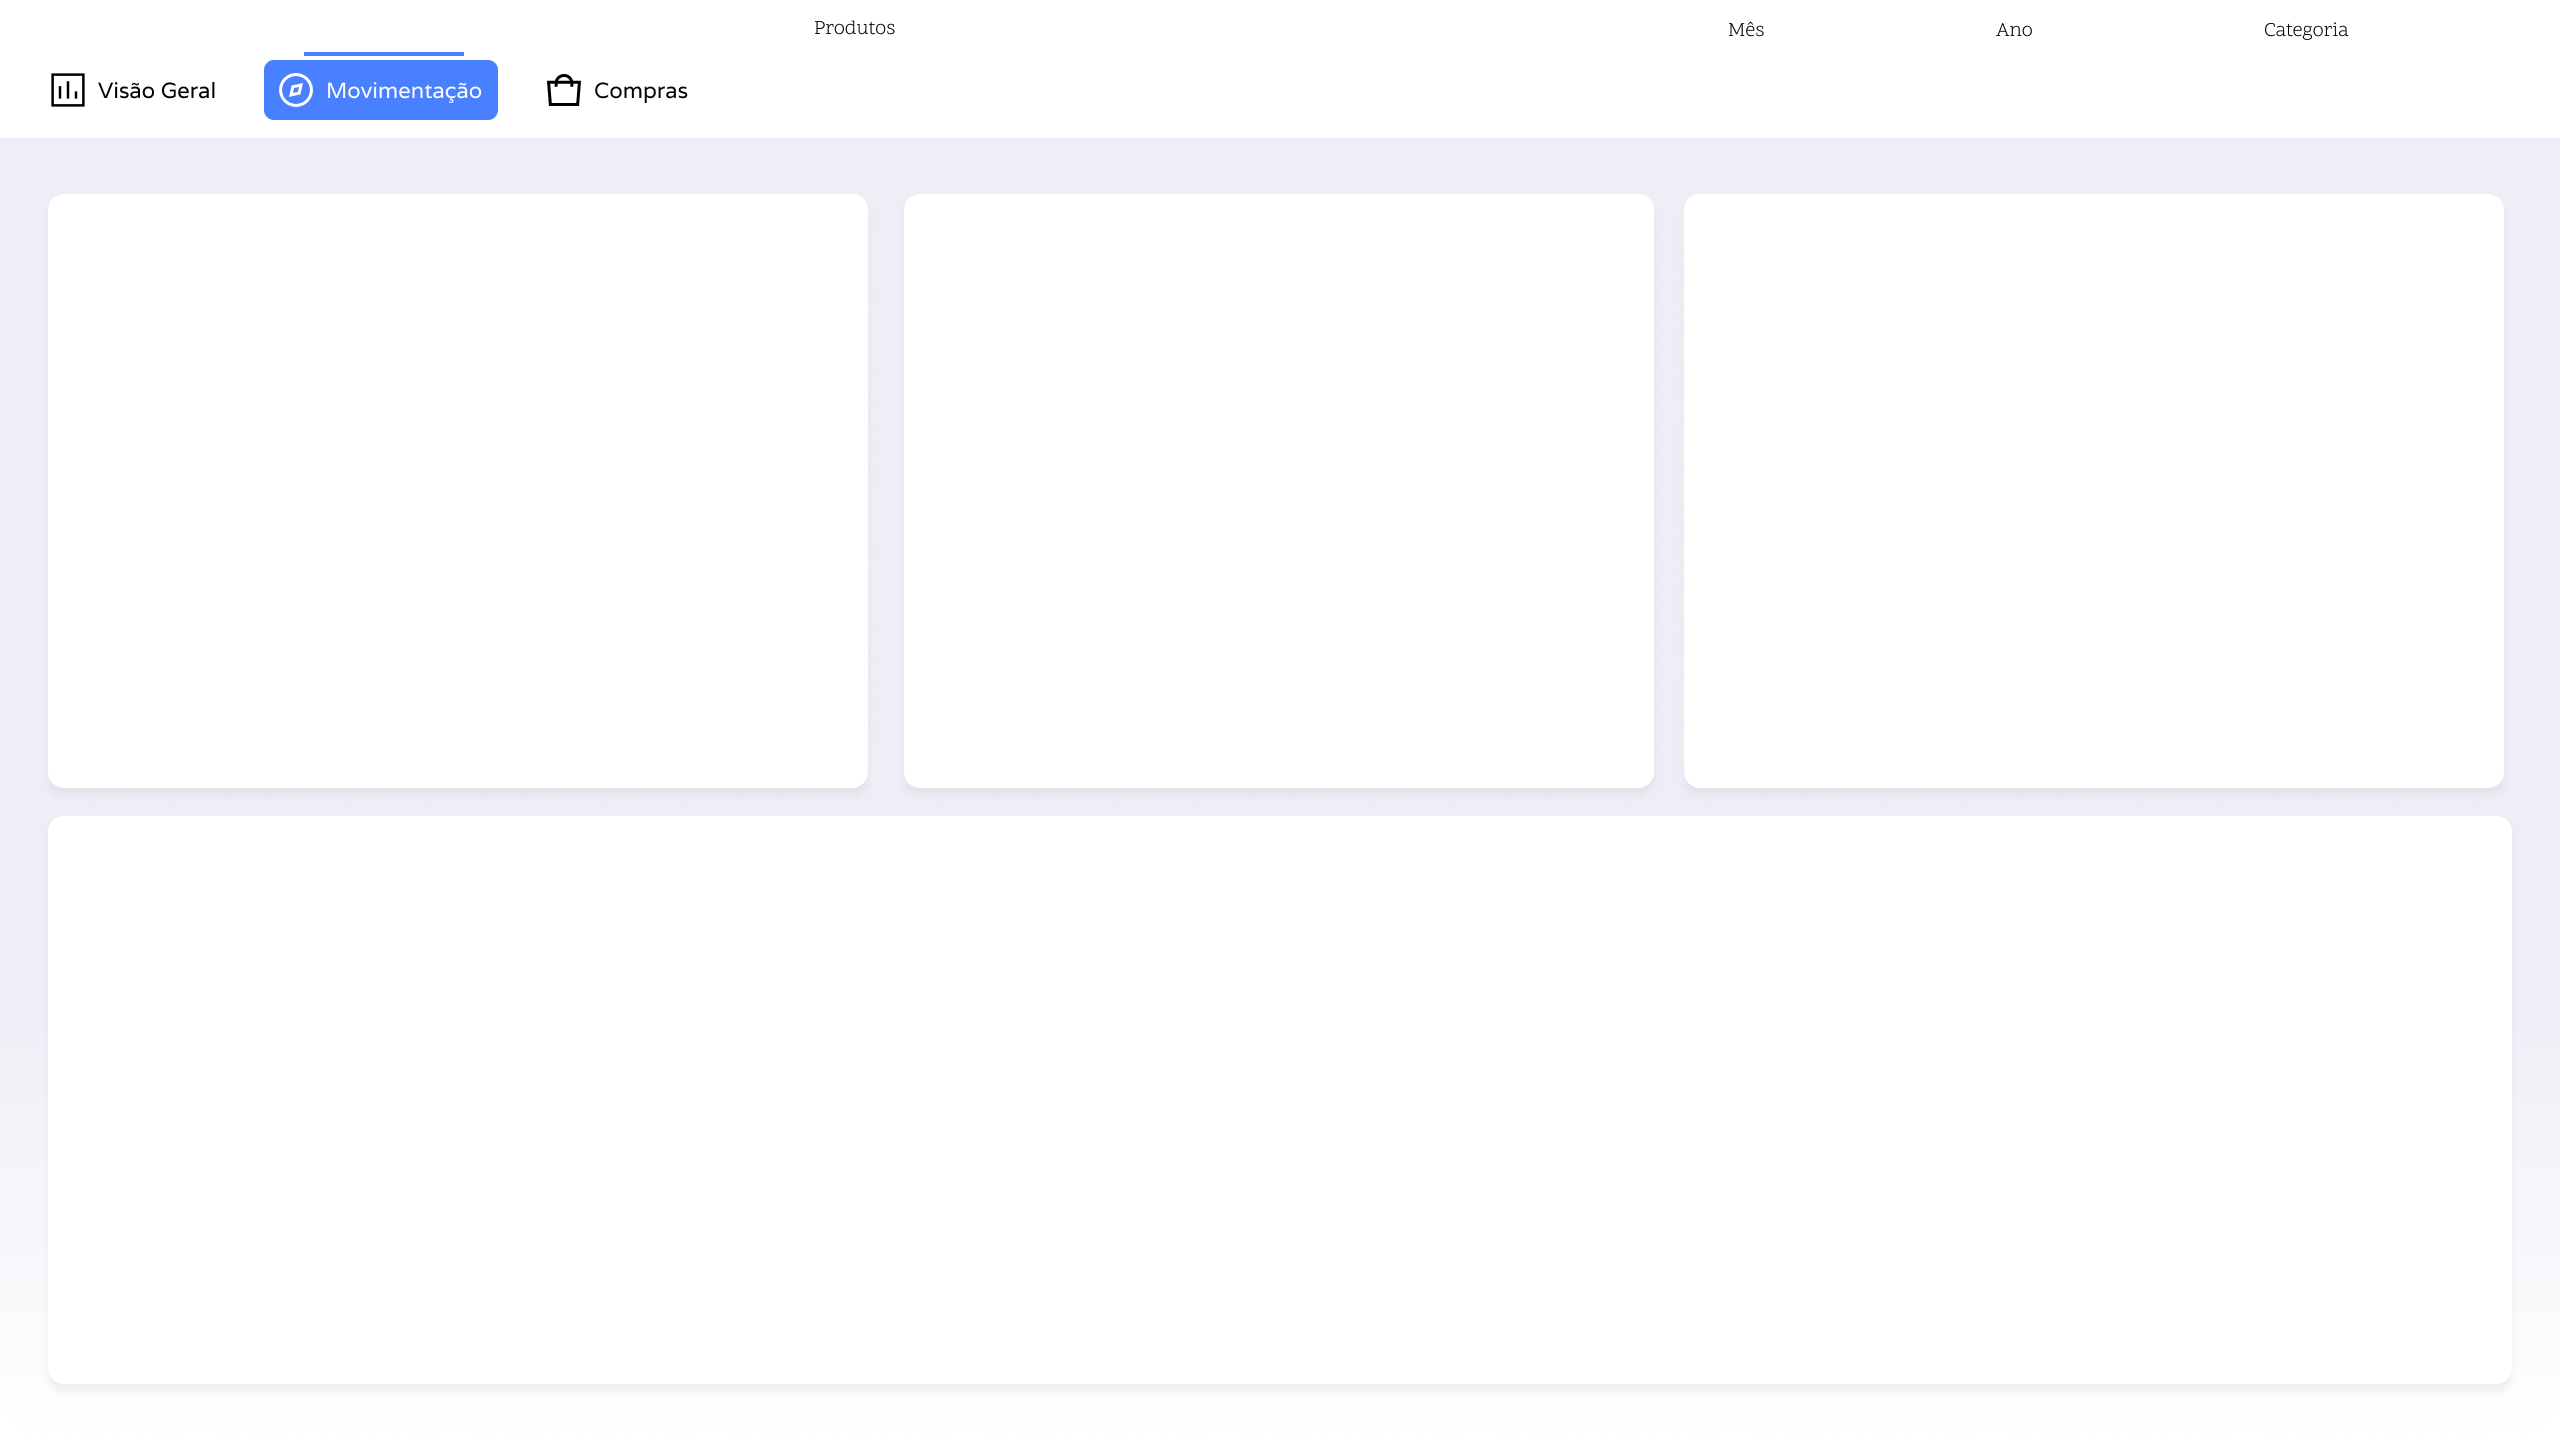

The page's visual inventory and layout, read from the dashboard file:
{"tool":"powerbi","page":{"name":"Movimentação","canvas":[1280,720],"ordinal":1},"visuals":[{"type":"pivotTable","fields":{"Rows":["fProduto.Produto","dCalendario.NomeMes"],"Values":["Medidas.Total Saídas","Medidas.Estoque Atual","Medidas.Status Atual x Minimo","Sum(fProduto.Estoque mínimo)","Medidas.Média Saída 3 Meses","Medidas.Duração Estoque (Dias)","Medidas.Flag Alerta Estoque"]},"box":[10.7,395.9,1269.3,313.2],"z":0},{"type":"clusteredBarChart","title":"Retirada de Produtos por Funcionário","fields":{"Category":["fMovimentacao.Funcionário"],"Y":["Medidas.Total Saídas"]},"box":[821.9,95.3,445.5,313.2],"z":1000},{"type":"clusteredBarChart","title":"Entrada de Produtos Por Funcionário","fields":{"Category":["fMovimentacao.Funcionário"],"Y":["Medidas.Total Entrada"]},"box":[10.7,95.3,437.7,313.2],"z":2000},{"type":"actionButton","box":[44.7,13.6,104.1,39.9],"z":3000},{"type":"slicer","fields":{"Values":["dCalendario.NomeMes"]},"box":[857.9,20.4,124.5,40.9],"z":4000},{"type":"slicer","fields":{"Values":["dCalendario.Ano"]},"box":[989.2,20.4,124.5,40.9],"z":5000},{"type":"slicer","fields":{"Values":["fProduto.Categoria"]},"box":[1125.3,20.4,124.5,40.9],"z":6000},{"type":"clusteredBarChart","fields":{"Category":["fProduto.Categoria"],"Y":["Medidas.Total Saídas"]},"box":[436.7,95.6,404.4,300],"z":7000},{"type":"slicer","fields":{"Values":["fProduto.Produto"]},"box":[395.9,20.4,433.8,40.9],"z":7001}]}

Visuals, with their boxes in screenshot pixels (x1, y1, x2, y2):
pivotTable - fProduto.Produto x dCalendario.NomeMes: [41, 781, 2545, 1399]
"Retirada de Produtos por Funcionário" clusteredBarChart: [1641, 188, 2520, 806]
"Entrada de Produtos Por Funcionário" clusteredBarChart: [41, 188, 904, 806]
actionButton: [108, 27, 313, 106]
slicer - dCalendario.NomeMes: [1712, 40, 1958, 121]
slicer - dCalendario.Ano: [1971, 40, 2217, 121]
slicer - fProduto.Categoria: [2239, 40, 2485, 121]
clusteredBarChart - fProduto.Categoria x Medidas.Total Saídas: [881, 189, 1679, 780]
slicer - fProduto.Produto: [801, 40, 1656, 121]
